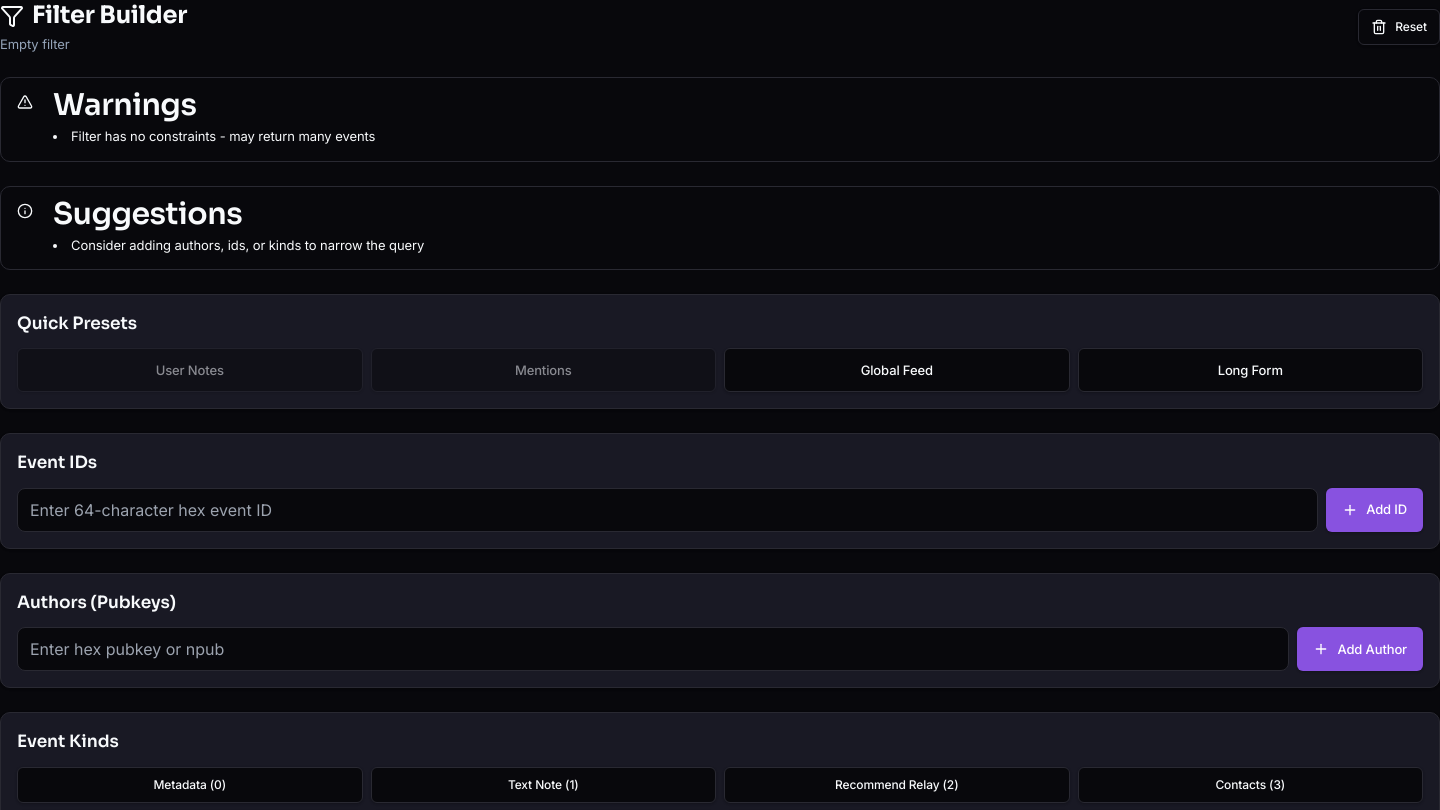
FilterBuilder › Validation › validates event ID format
Type "invalid-id" into the field named "Event IDs input field" at x=668, y=510, box [17, 488, 1318, 532]
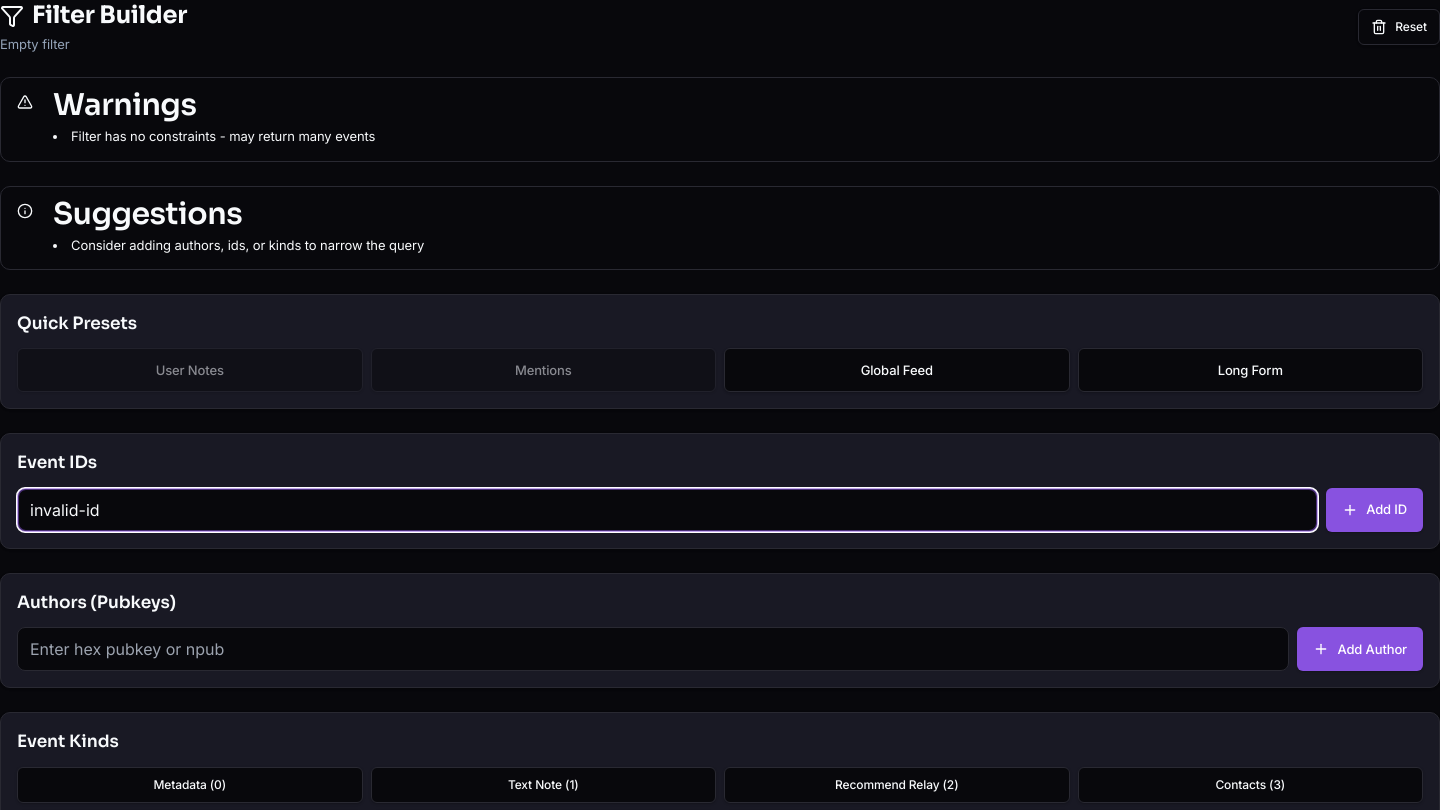
Click the button with aria-label "add event id" at x=1375, y=510, box [1326, 488, 1423, 532]
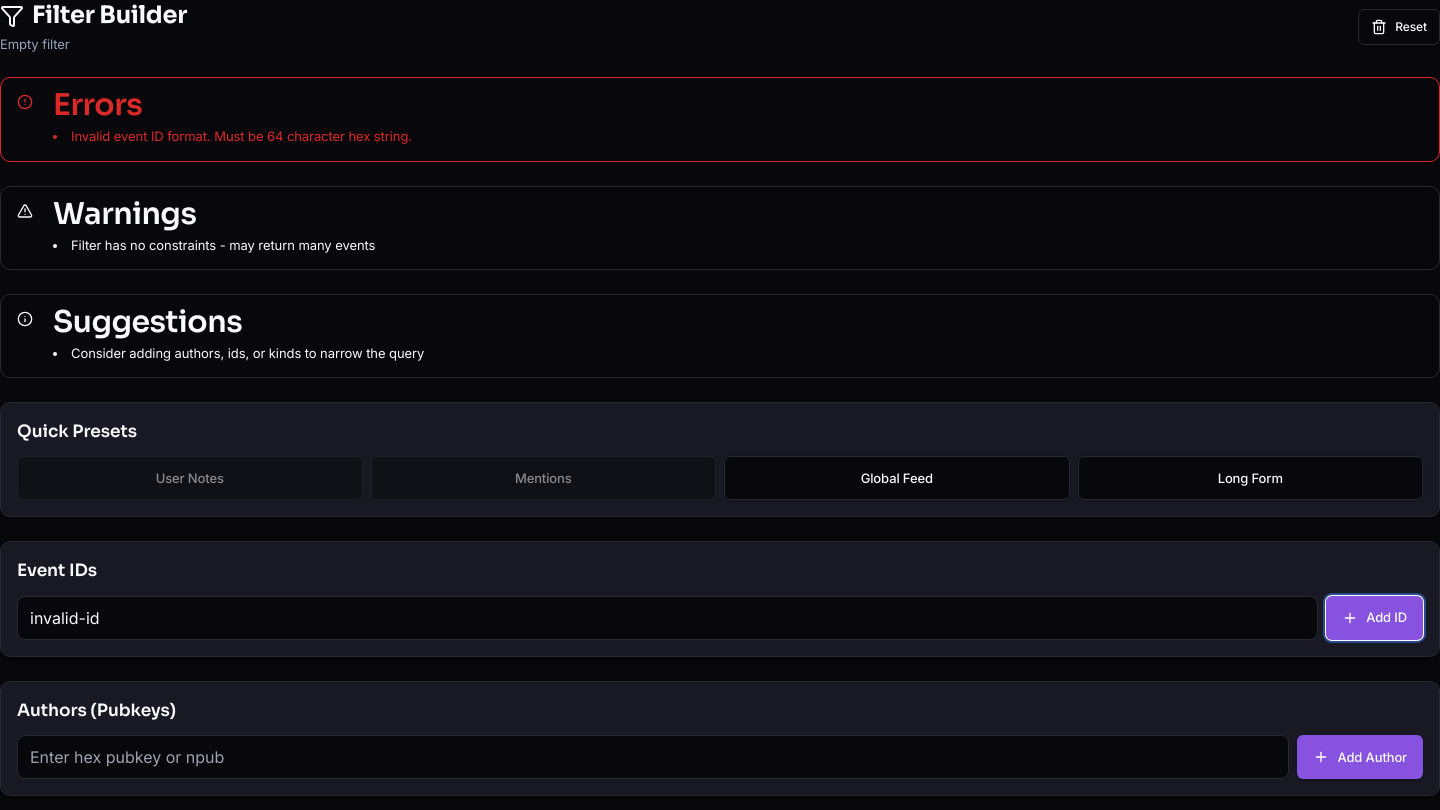
Now the list item "Invalid event ID format. Must be 64 character hex string." is shown, box [71, 128, 412, 144]
